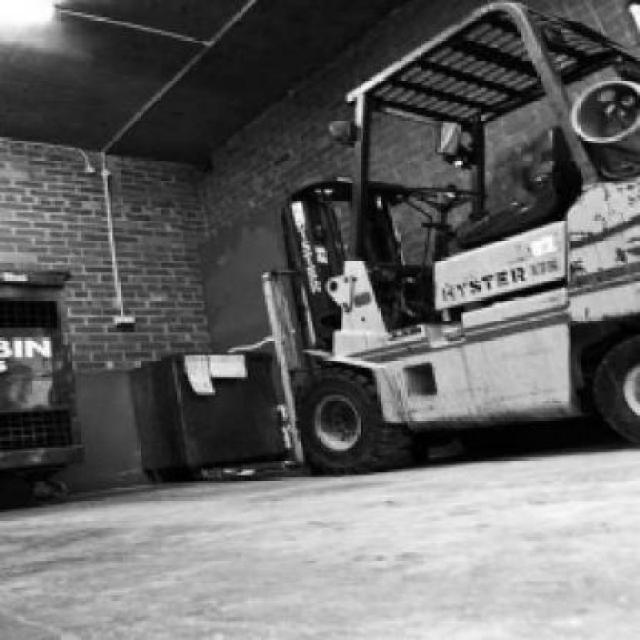forklift: (220, 2, 640, 478)
